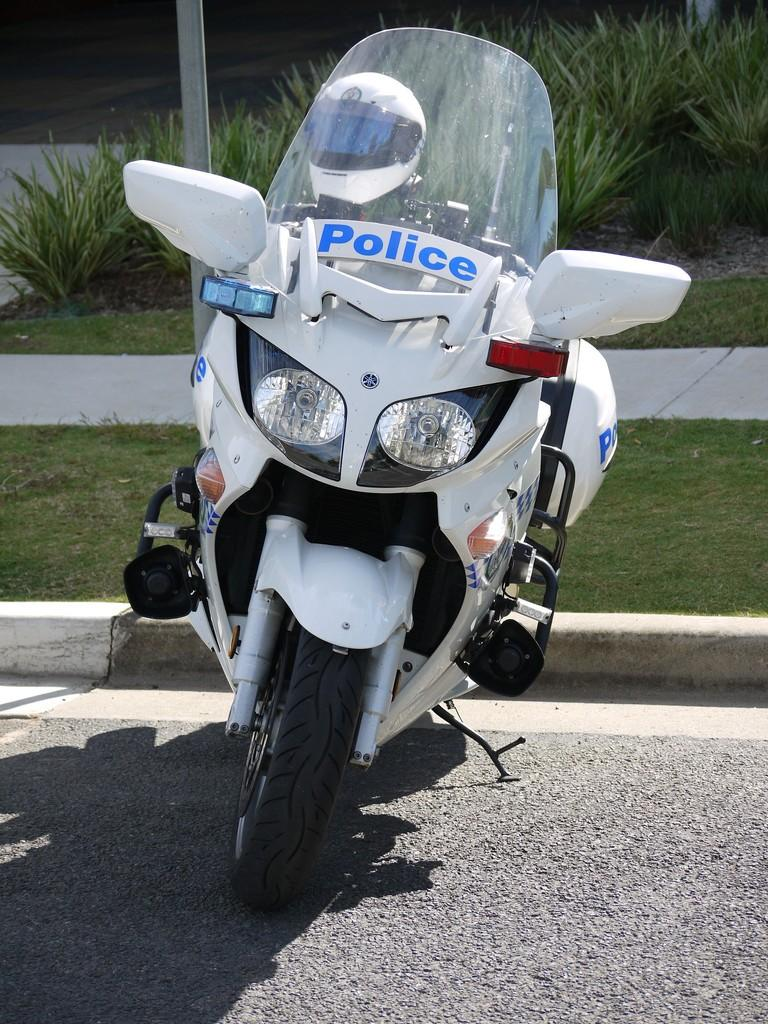helmet: (301, 72, 427, 210)
